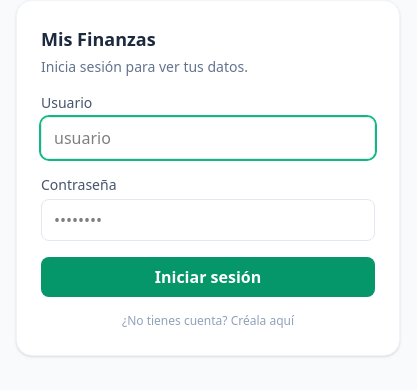
Test case: LoginScreen › valida que se ingrese usuario y contraseña
The width and height of the screenshot is (417, 390).
Click the button "Iniciar sesión" at [208, 277], box [41,257,375,297]
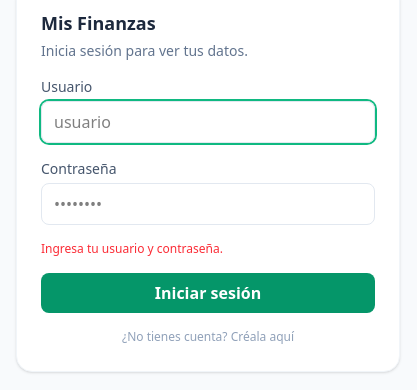
Expected: the text "Ingresa tu usuario y contraseña." is shown, [41,240,223,257]
